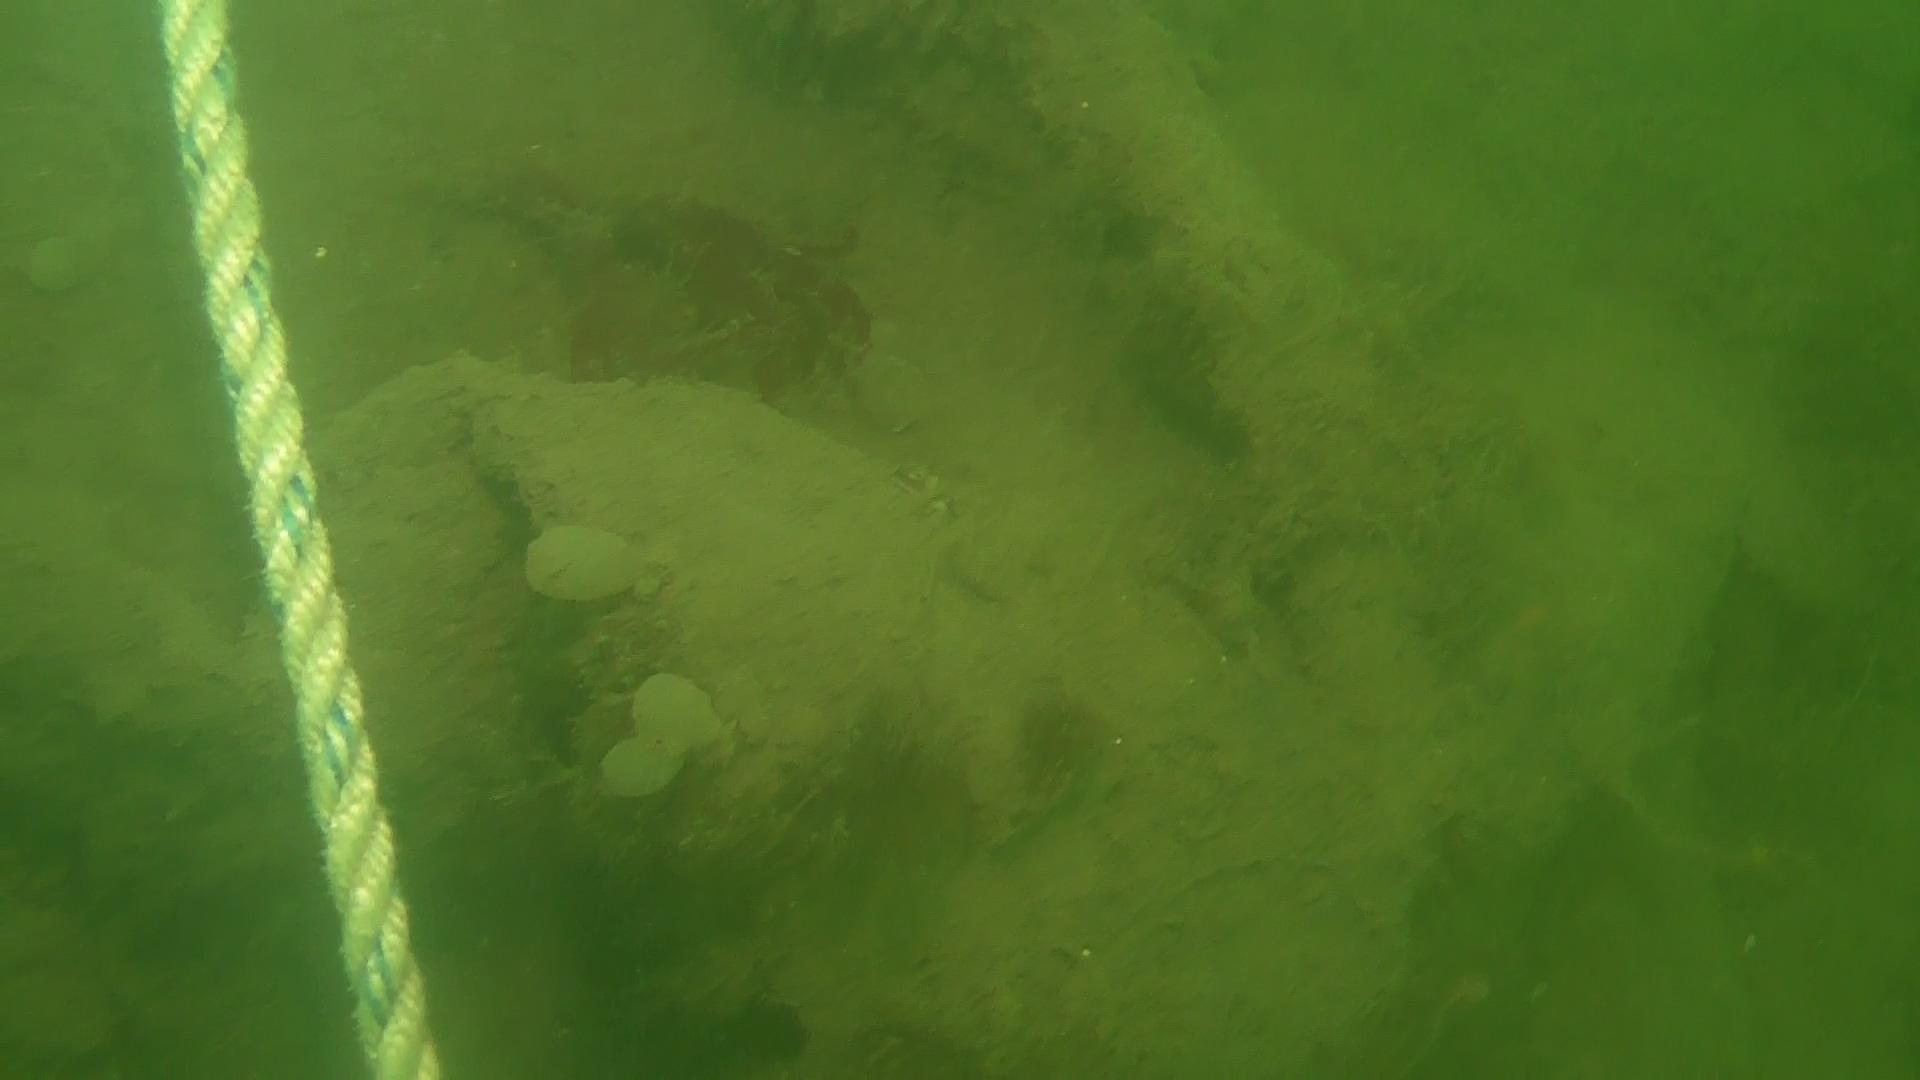rope: (150, 0, 444, 1080)
